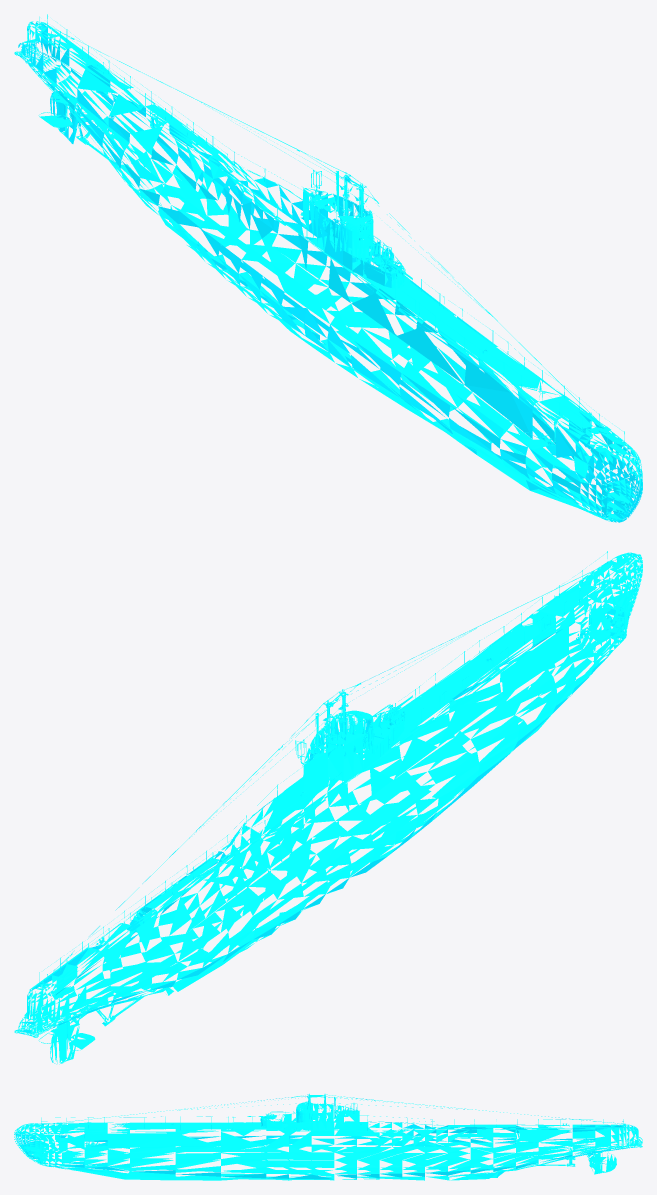
The model's file is PBSS710.glb.
The picture shows the model from 3 angles, top to bottom: view 1: azimuth 30°, elevation 25°; view 2: azimuth 150°, elevation 25°; view 3: azimuth 270°, elevation 25°; orthographic projection. The views are drawn at different scales.
Parts seen in each view (by area): view 1: hull_bow, main_battery; view 2: hull_bow, main_battery; view 3: hull_bow, main_battery.
Part boxes in pixels (left/top/right/bottom): hull_bow: left=14, top=14, right=642, bottom=522; main_battery: left=364, top=255, right=412, bottom=288; hull_bow: left=14, top=551, right=642, bottom=1064; main_battery: left=365, top=695, right=412, bottom=740; hull_bow: left=14, top=1093, right=642, bottom=1180; main_battery: left=247, top=1113, right=284, bottom=1129.
Size of the model in its own units: 0.5195 by 0.9123 by 5.96.
